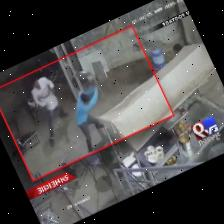person: (31, 78, 67, 146), (75, 87, 105, 152)
